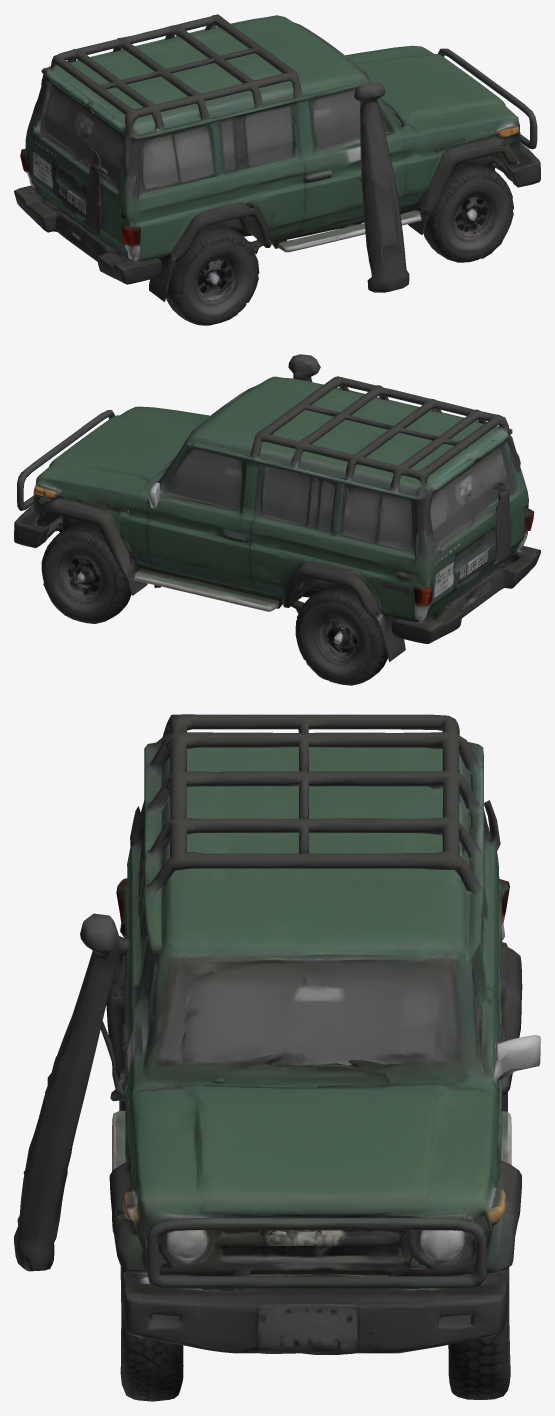
The model's file is landcruiser.glb.
The picture shows the model from 3 angles, top to bottom: view 1: azimuth 30°, elevation 25°; view 2: azimuth 150°, elevation 25°; view 3: azimuth 270°, elevation 25°; orthographic projection. The views are drawn at different scales.
Visible parts, largest first — view 1: tripo_node_0857f719-b007-4196-984b-6366bd6c8a6c; view 2: tripo_node_0857f719-b007-4196-984b-6366bd6c8a6c; view 3: tripo_node_0857f719-b007-4196-984b-6366bd6c8a6c.
Boxes of the visible parts, box(x1,y1,x2,y2) form: tripo_node_0857f719-b007-4196-984b-6366bd6c8a6c: box(14, 14, 540, 325); tripo_node_0857f719-b007-4196-984b-6366bd6c8a6c: box(14, 354, 540, 685); tripo_node_0857f719-b007-4196-984b-6366bd6c8a6c: box(14, 714, 540, 1401).
Bounding box in the file's own units: 3.9 × 1.9 × 2.32.
1 material, 1 textured.
